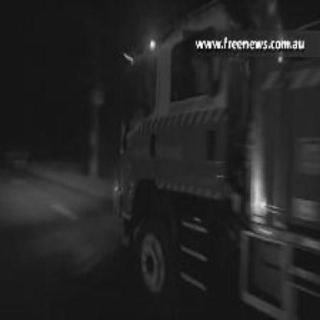other: (243, 128, 275, 225), (130, 24, 166, 62)
